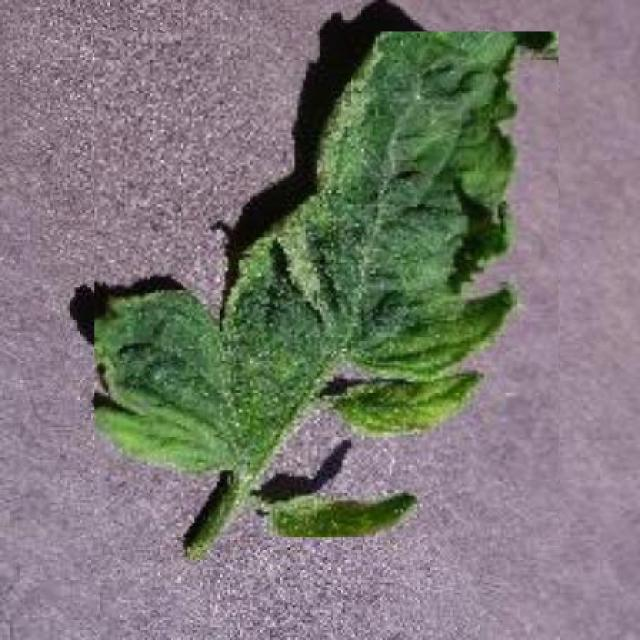Mosaic Virus: (94, 32, 559, 537)
